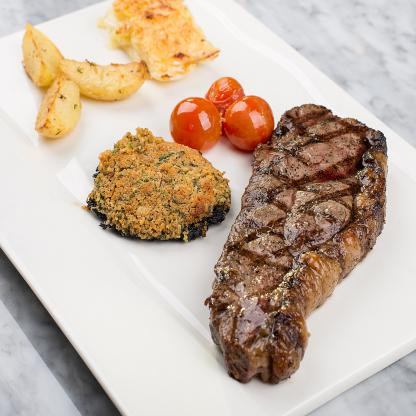Carne: (205, 97, 390, 390)
